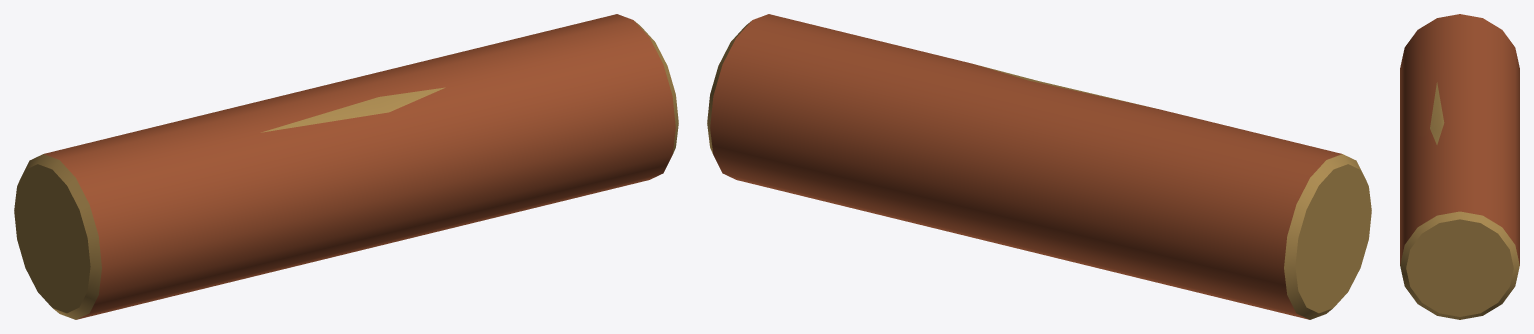
File: WoodFour.fbx
3 renders of one model, left to right at view 1: azimuth 30°, elevation 25°; view 2: azimuth 150°, elevation 25°; view 3: azimuth 270°, elevation 25°, orthographic. The views are drawn at different scales.
Parts seen in each view (by area): view 1: WoodFour; view 2: WoodFour; view 3: WoodFour.
Boxes of the visible parts, x1,y1,x2,y2 form: WoodFour: (14,14,678,319); WoodFour: (707,14,1371,319); WoodFour: (1400,14,1519,319).
Bounding box in the file's own units: 160 × 40 × 40.
